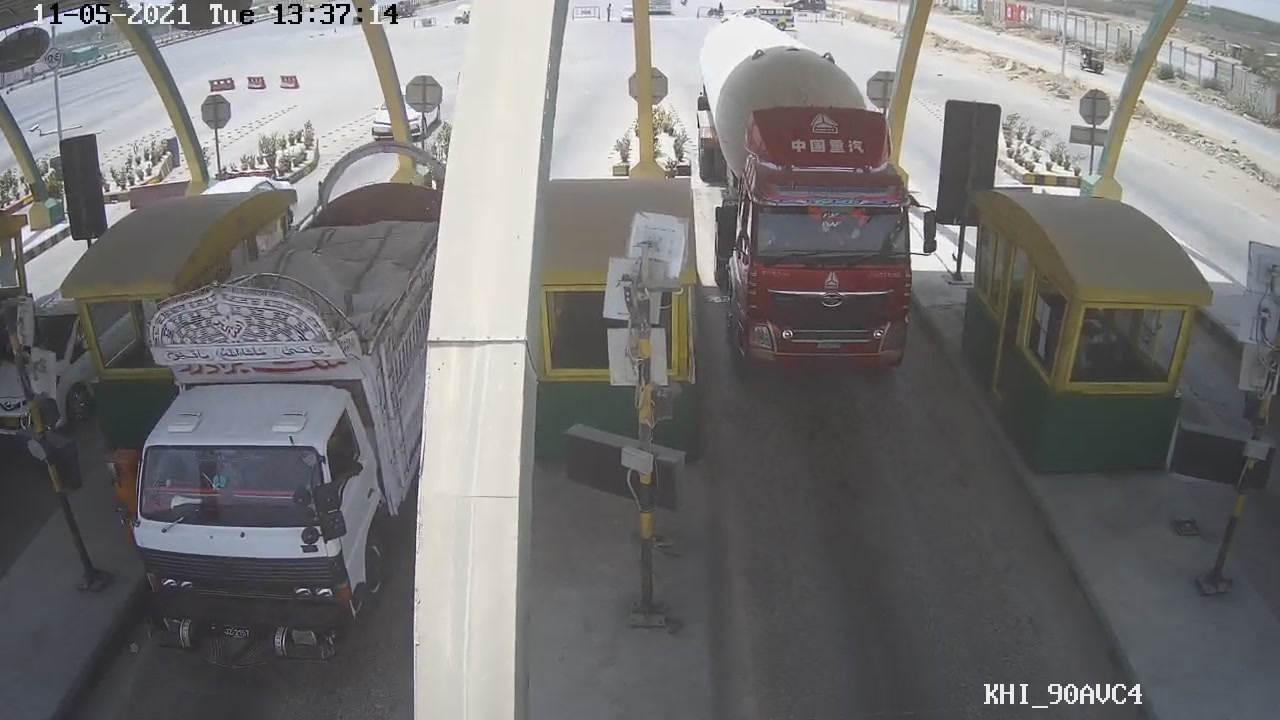F6: (701, 26, 932, 381)
